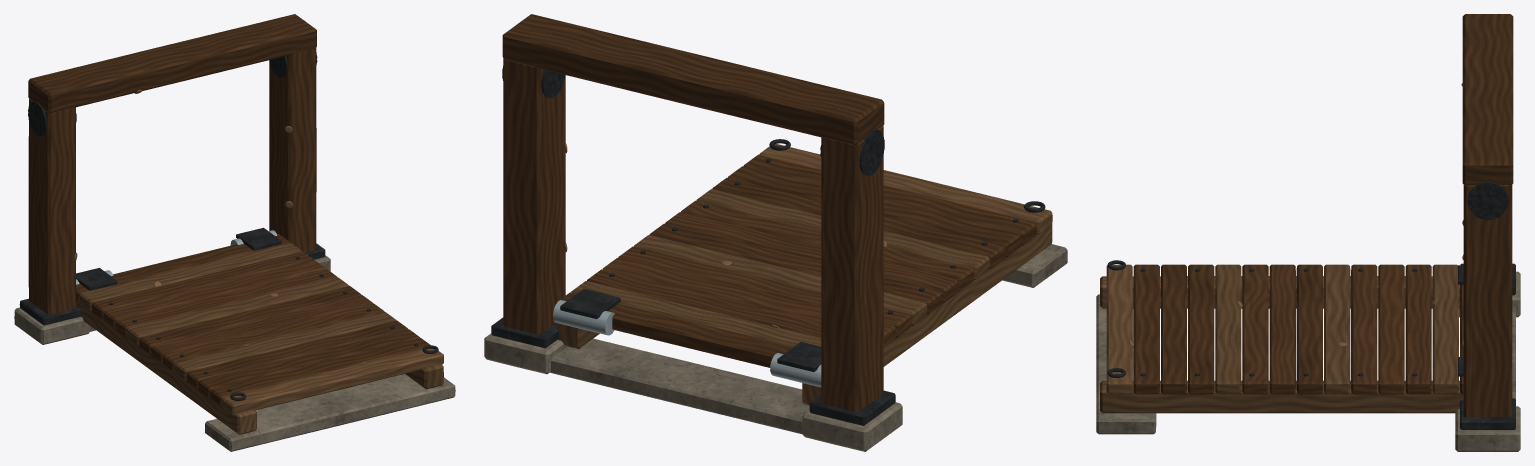
The picture shows the model from 3 angles, left to right: view 1: azimuth 30°, elevation 25°; view 2: azimuth 150°, elevation 25°; view 3: azimuth 270°, elevation 25°; orthographic projection. The views are drawn at different scales.
Visible parts, largest first — view 1: quarter-sawn-timber (×2), exposed-end-grain, dressed-fieldstone-edges, blackened-forged-iron (×2); view 2: quarter-sawn-timber (×2), exposed-end-grain, dressed-fieldstone-edges, blackened-forged-iron (×2), machined-bearing-steel; view 3: quarter-sawn-timber (×2), exposed-end-grain, dressed-fieldstone-edges, blackened-forged-iron (×2).
Boxes of the visible parts, x1,y1,x2,y2 form: quarter-sawn-timber (×2): (28,14,430,406); exposed-end-grain: (76,242,443,434); dressed-fieldstone-edges: (14,255,455,451); blackened-forged-iron (×2): (19,52,438,400); quarter-sawn-timber (×2): (502,14,1036,411); exposed-end-grain: (555,144,1052,405); dressed-fieldstone-edges: (484,244,1067,451); blackened-forged-iron (×2): (491,66,1045,425); machined-bearing-steel: (553,300,821,387); quarter-sawn-timber (×2): (1133,14,1513,417); exposed-end-grain: (1100,264,1463,413); dressed-fieldstone-edges: (1096,271,1520,451); blackened-forged-iron (×2): (1107,182,1515,429).
Bounding box in the file's own units: 2.05 × 1.67 × 2.26.
Materials: 7 (5 with a texture image).
